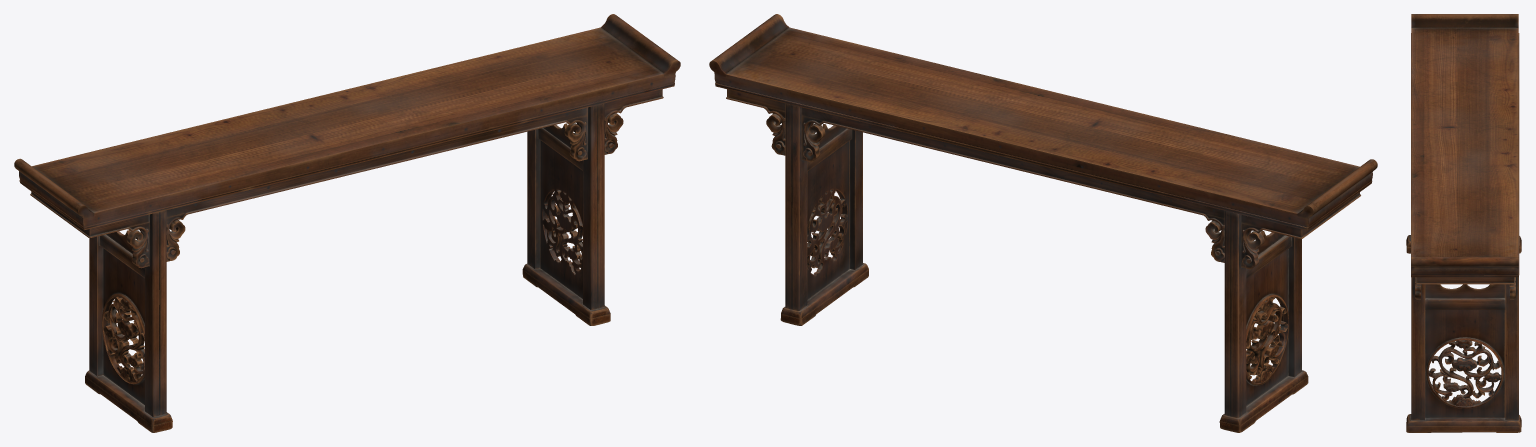
The model's file is ph-chinese_console_table.glb.
The picture shows the model from 3 angles, left to right: view 1: azimuth 30°, elevation 25°; view 2: azimuth 150°, elevation 25°; view 3: azimuth 270°, elevation 25°; orthographic projection. The views are drawn at different scales.
Parts seen in each view (by area): view 1: chinese_console_table; view 2: chinese_console_table; view 3: chinese_console_table.
Boxes of the visible parts, <box> form: chinese_console_table: <box>14,14,680,432</box>; chinese_console_table: <box>709,14,1377,432</box>; chinese_console_table: <box>1406,14,1521,432</box>.
Bounding box in the file's own units: 1.72 × 0.6607 × 0.3388.
1 material, 1 textured.
